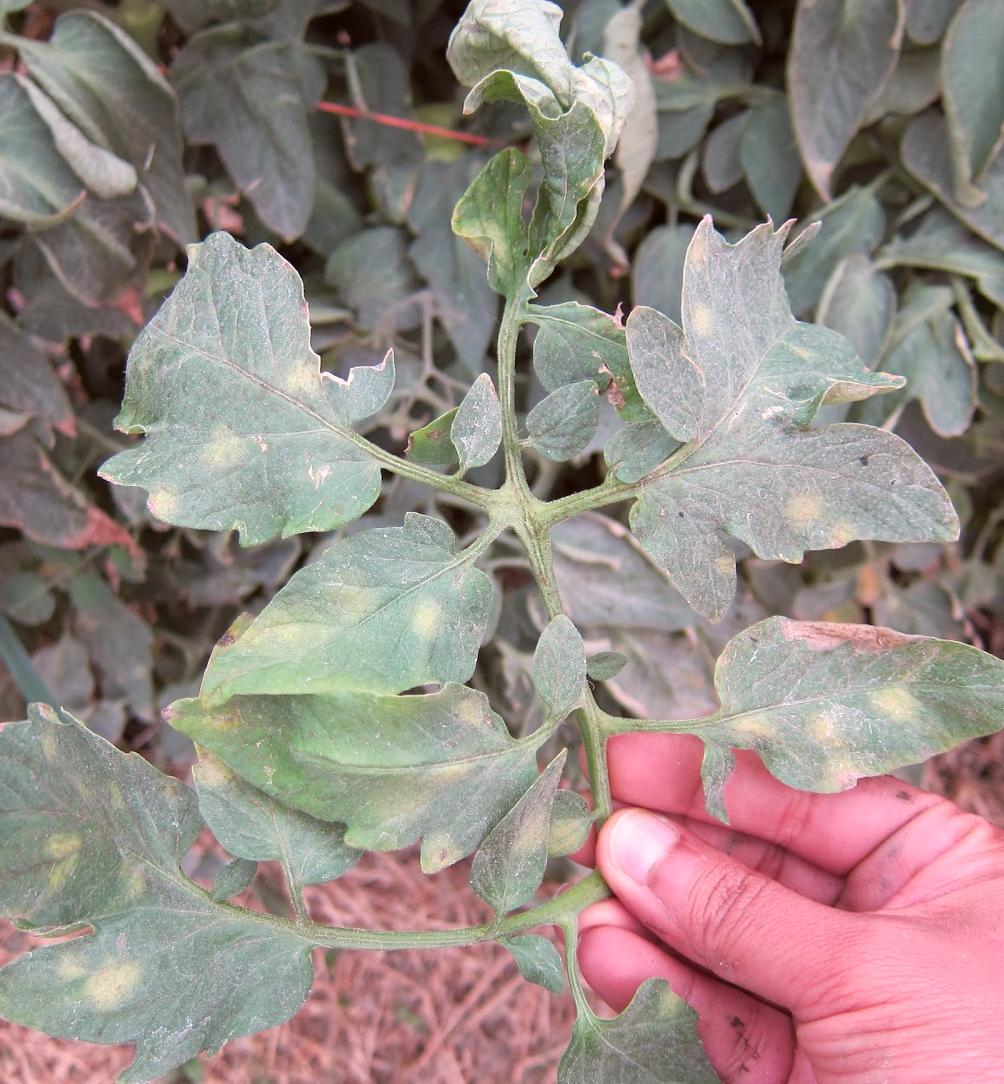Tomato mold leaf: (620, 200, 971, 606), (93, 233, 409, 549), (180, 511, 489, 796), (148, 705, 569, 908), (700, 574, 1004, 813), (0, 899, 368, 1084), (437, 0, 637, 295), (0, 682, 207, 934), (539, 968, 754, 1084)
